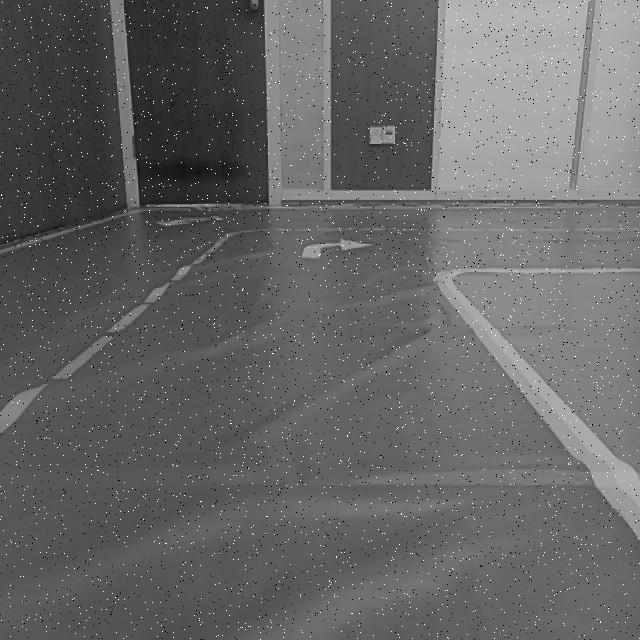left_lane: (0, 231, 229, 435)
right_lane: (435, 282, 640, 540)
